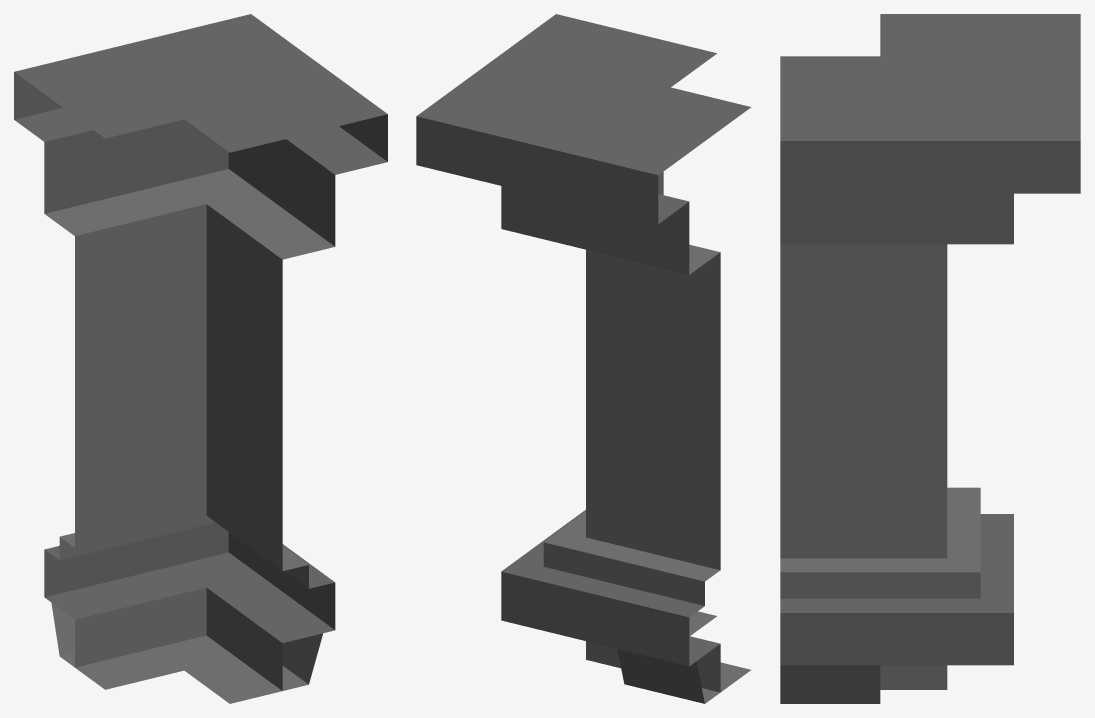
The model's file is SM_cornice_02_corner.glb.
3 renders of one model, left to right at view 1: azimuth 30°, elevation 25°; view 2: azimuth 150°, elevation 25°; view 3: azimuth 270°, elevation 25°, orthographic. The views are drawn at different scales.
Visible parts, largest first — view 1: SM_cornice_02_corner; view 2: SM_cornice_02_corner; view 3: SM_cornice_02_corner.
Boxes of the visible parts, x1=… form: SM_cornice_02_corner: x1=14, y1=14, x2=387, y2=703; SM_cornice_02_corner: x1=416, y1=14, x2=751, y2=703; SM_cornice_02_corner: x1=780, y1=14, x2=1080, y2=703.
Bounding box in the file's own units: 0.45 × 1 × 0.45.
1 material, 1 textured.
